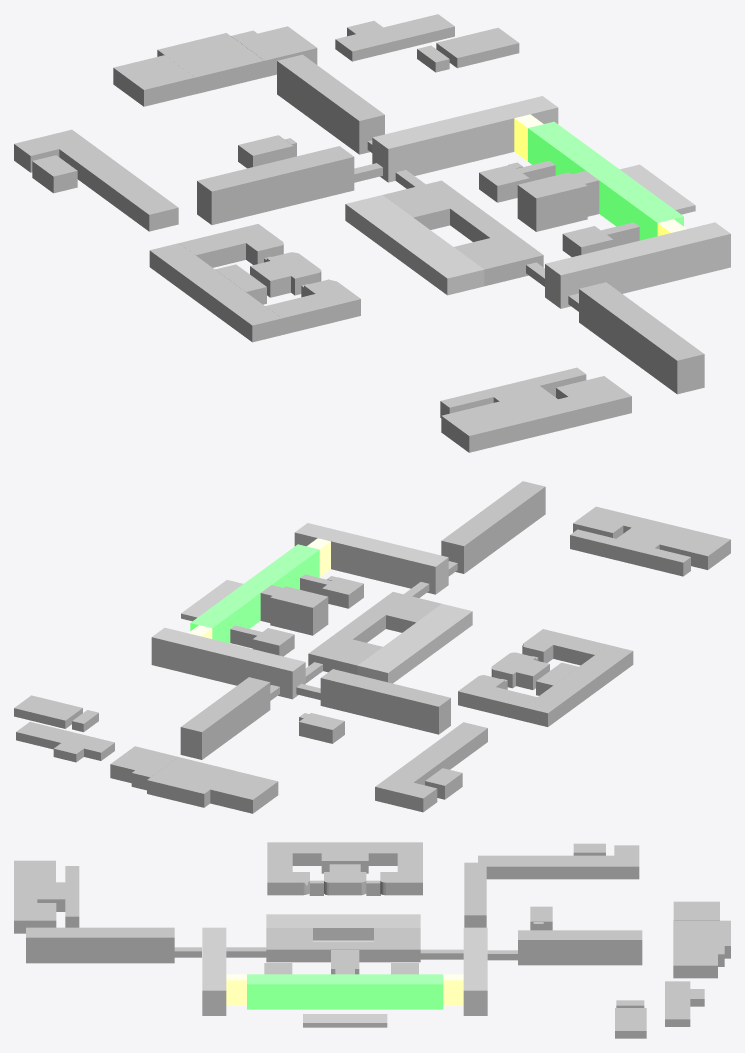
File: Main01.fbx
3 views of the same model, one above another, from view 1: azimuth 30°, elevation 25°; view 2: azimuth 150°, elevation 25°; view 3: azimuth 270°, elevation 25° (orthographic). The views are drawn at different scales.
Visible parts, largest first — view 1: Куб.009, Куб.010, Куб.024, Куб.025, Куб.001, Куб.013, Куб.021, Куб.046, Куб.026, Куб.054, Куб.038, Куб.002 (+24 smaller); view 2: Куб.010, Куб.009, Куб.024, Куб.025, Куб.001, Куб.013, Куб.021, Куб.046, Куб.054, Куб.026, Куб.038, Куб.030 (+23 smaller); view 3: Куб.001, Куб.025, Куб.021, Куб.054, Куб.014, Куб.013, Куб.046, Куб.009, Куб.010, Куб.026, Куб.038, Куб.024 (+26 smaller).
Part boxes in pixels (x1=…): Куб.009: x1=545, y1=222, x2=730, y2=308; Куб.010: x1=372, y1=96, x2=558, y2=182; Куб.024: x1=197, y1=146, x2=354, y2=224; Куб.025: x1=579, y1=282, x2=704, y2=394; Куб.001: x1=528, y1=121, x2=683, y2=240; Куб.013: x1=345, y1=195, x2=484, y2=295; Куб.021: x1=277, y1=54, x2=384, y2=154; Куб.046: x1=149, y1=243, x2=281, y2=342; Куб.026: x1=441, y1=390, x2=573, y2=452; Куб.054: x1=43, y1=129, x2=178, y2=231; Куб.038: x1=157, y1=33, x2=264, y2=94; Куб.002: x1=517, y1=172, x2=587, y2=231; Куб.010: x1=151, y1=627, x2=305, y2=699; Куб.009: x1=294, y1=523, x2=448, y2=594; Куб.024: x1=320, y1=669, x2=450, y2=734; Куб.025: x1=441, y1=481, x2=545, y2=573; Куб.001: x1=190, y1=544, x2=319, y2=643; Куб.013: x1=357, y1=604, x2=472, y2=683; Куб.021: x1=180, y1=677, x2=270, y2=759; Куб.046: x1=523, y1=645, x2=633, y2=726; Куб.054: x1=375, y1=722, x2=487, y2=806; Куб.026: x1=621, y1=518, x2=730, y2=569; Куб.038: x1=147, y1=757, x2=234, y2=807; Куб.030: x1=570, y1=529, x2=690, y2=576; Куб.001: x1=247, y1=974, x2=443, y2=1009; Куб.025: x1=26, y1=927, x2=174, y2=963; Куб.021: x1=518, y1=930, x2=642, y2=965; Куб.054: x1=478, y1=855, x2=639, y2=879; Куб.014: x1=266, y1=941, x2=420, y2=962; Куб.013: x1=266, y1=914, x2=420, y2=940; Куб.046: x1=267, y1=842, x2=422, y2=865; Куб.009: x1=202, y1=927, x2=226, y2=1015; Куб.010: x1=463, y1=927, x2=487, y2=1015; Куб.026: x1=14, y1=860, x2=55, y2=902; Куб.038: x1=673, y1=920, x2=730, y2=958; Куб.024: x1=464, y1=862, x2=486, y2=927.
Bounding box in the file's own units: 6185 × 500 × 10218.
